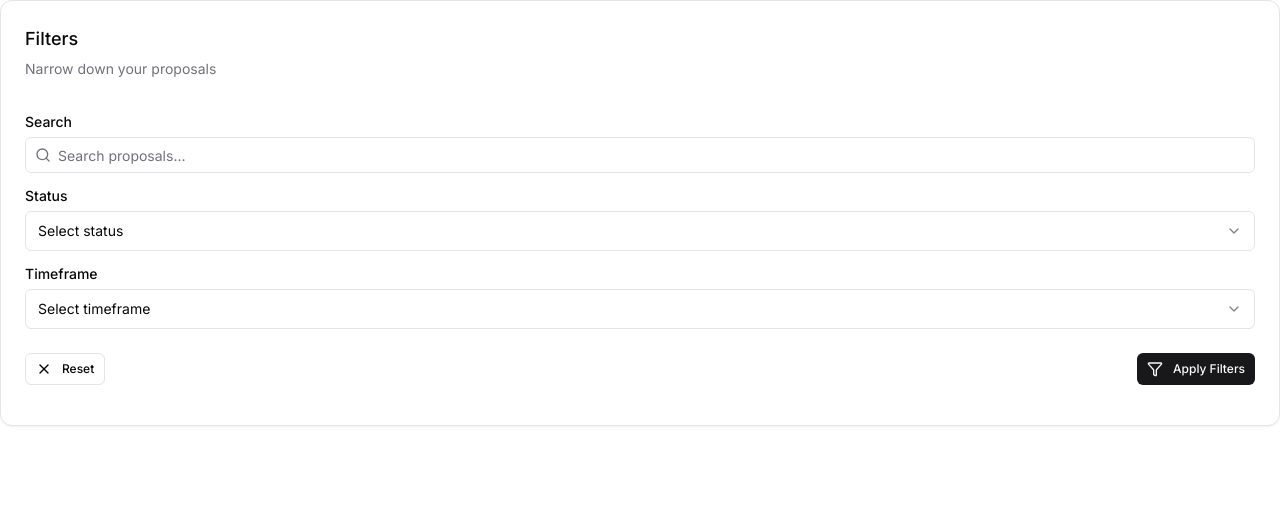
Test: DashboardFilters › applies filters when form is filled and Apply Filters button is clicked
Fill the search input
In the field with placeholder "Search proposals...": (640, 155) [25,137,1255,173], type "Test Query"
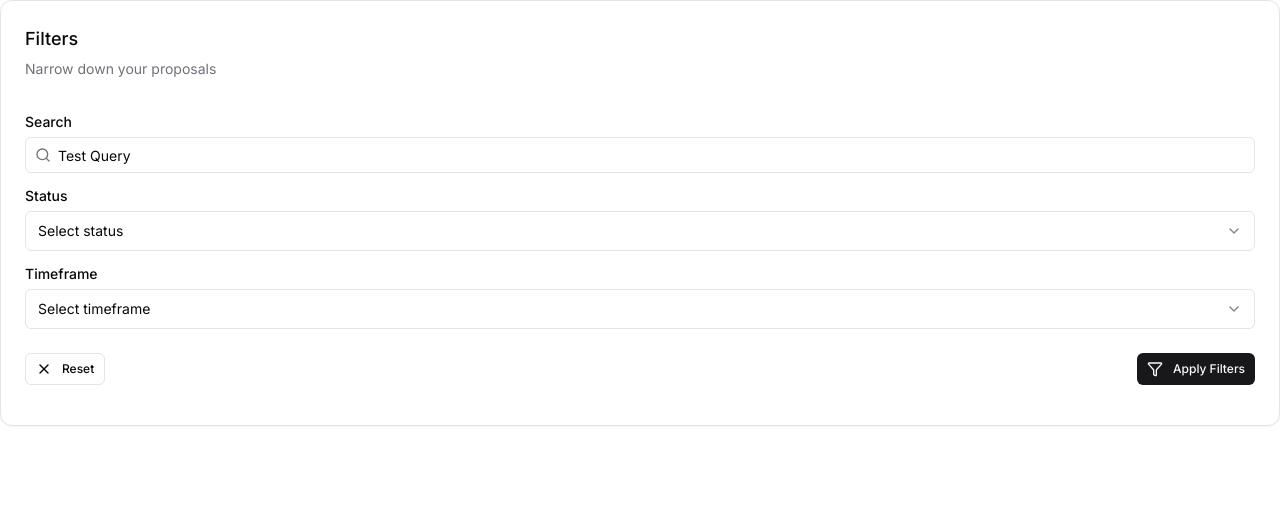
Click Apply Filters
Click the button "Apply Filters": (1196, 369) [1137,353,1255,385]
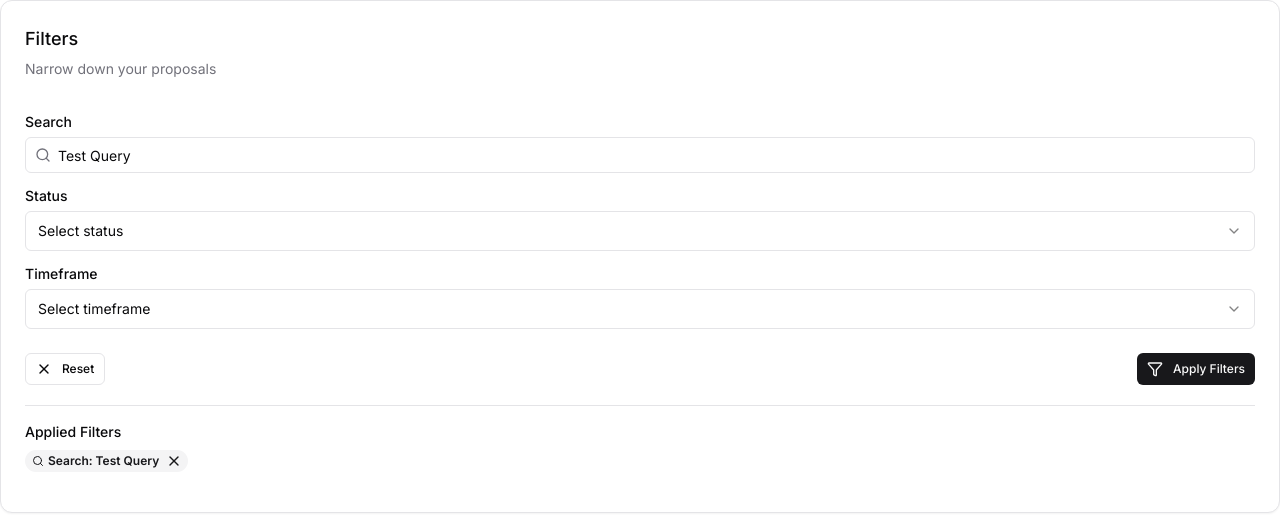
Result: the text "Search: Test Query" is shown at [48,453,159,469]
